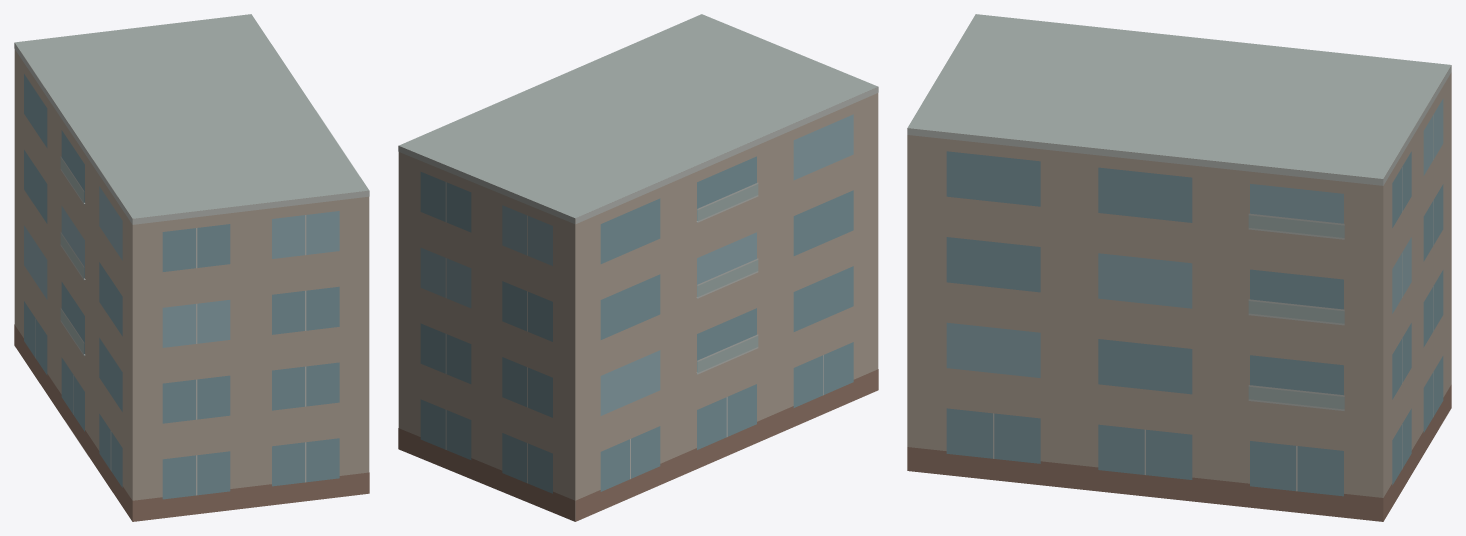
The model's file is residential-9242c404-1bb8-4ba4-9fc3-d5e87c687ef7.glb.
3 views of the same model, side by side, from view 1: azimuth 30°, elevation 25°; view 2: azimuth 150°, elevation 25°; view 3: azimuth 270°, elevation 25° (orthographic). The views are drawn at different scales.
Parts seen in each view (by area): view 1: residential-9242c404-1bb8-4ba4-9fc3-d5e87c687ef7.tmp; view 2: residential-9242c404-1bb8-4ba4-9fc3-d5e87c687ef7.tmp; view 3: residential-9242c404-1bb8-4ba4-9fc3-d5e87c687ef7.tmp.
Part boxes in pixels (left/top/right/bottom): residential-9242c404-1bb8-4ba4-9fc3-d5e87c687ef7.tmp: left=14, top=14, right=369, bottom=521; residential-9242c404-1bb8-4ba4-9fc3-d5e87c687ef7.tmp: left=398, top=14, right=878, bottom=521; residential-9242c404-1bb8-4ba4-9fc3-d5e87c687ef7.tmp: left=907, top=14, right=1451, bottom=521.
Bounding box in the file's own units: 12.61 × 12.2 × 17.57.
